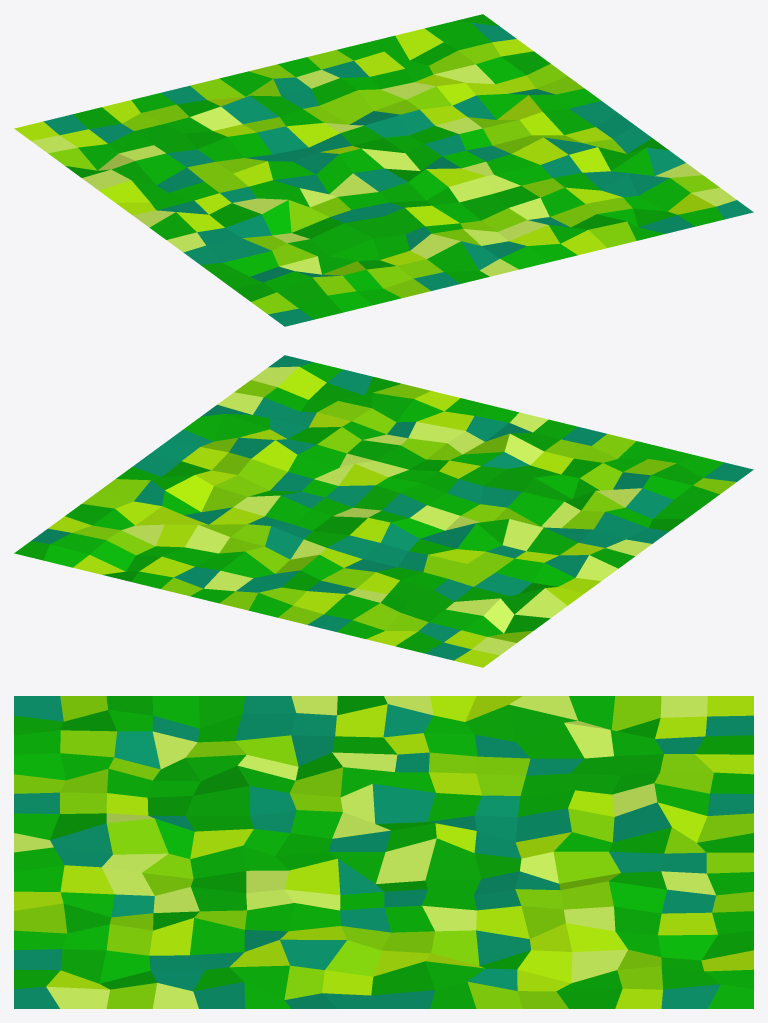
The model's file is grass_4.glb.
The picture shows the model from 3 angles, top to bottom: view 1: azimuth 30°, elevation 25°; view 2: azimuth 150°, elevation 25°; view 3: azimuth 270°, elevation 25°; orthographic projection. The views are drawn at different scales.
Visible parts, largest first — view 1: grass; view 2: grass; view 3: grass.
Part boxes in pixels (x1,y1,x2,y2): grass: (14,14,753,326); grass: (14,355,753,667); grass: (14,696,753,1008).
Size of the model in its own units: 4 by 0.1729 by 4.
